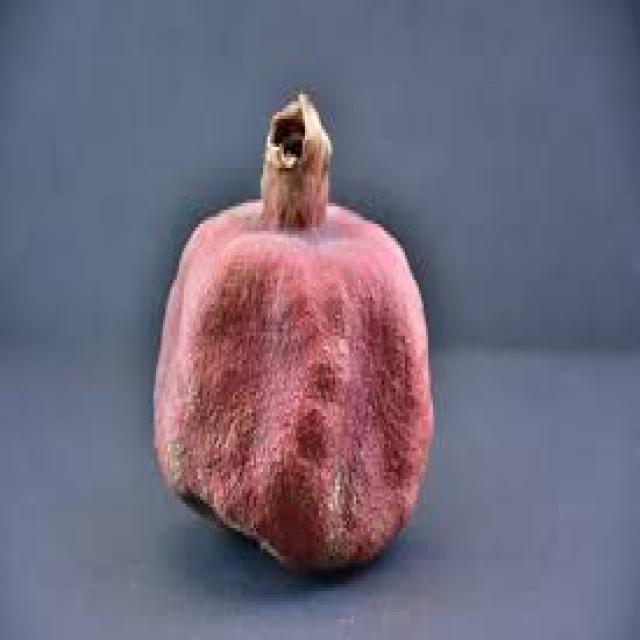Pomegranate: (185, 177, 421, 572)
